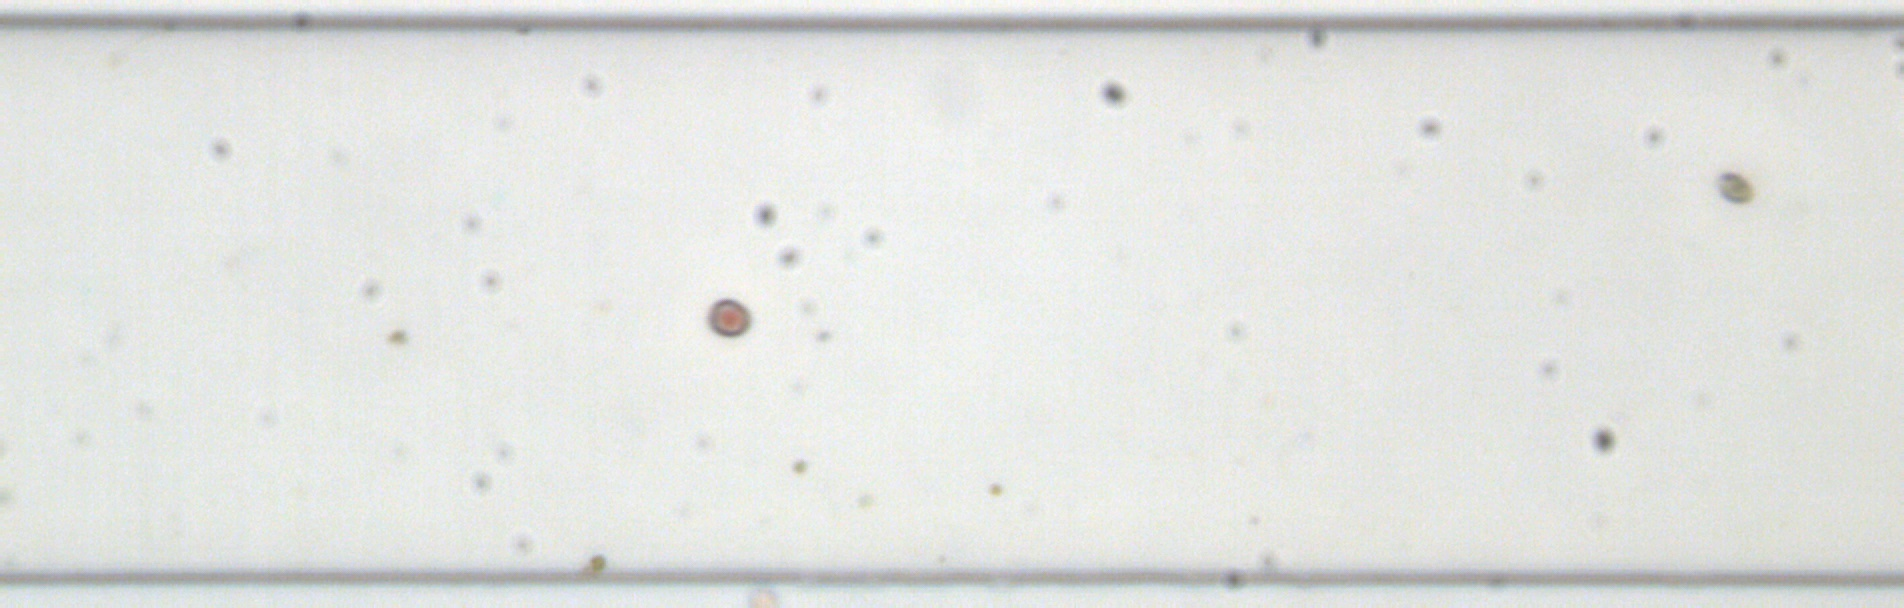Chlorella: (384, 324, 408, 347), (586, 551, 608, 570), (788, 458, 807, 475), (986, 481, 1003, 498)
Dunaliella salina: (1712, 166, 1757, 208)
Porphyridium: (704, 295, 754, 339)
